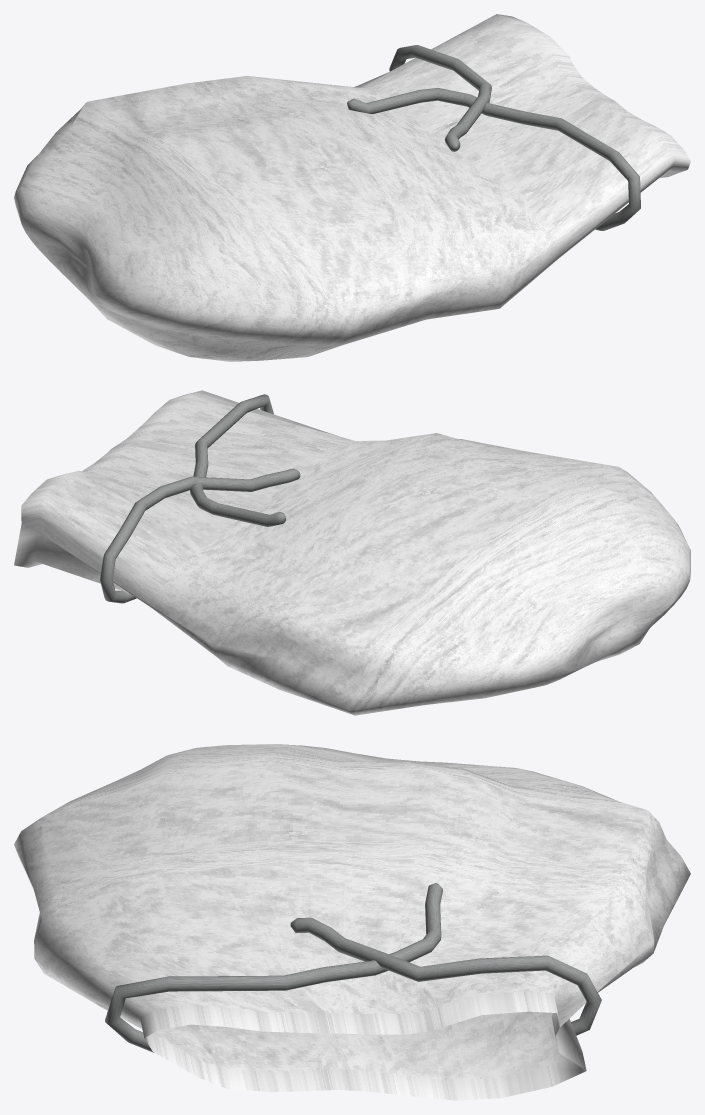
The model's file is bag.glb.
3 renders of one model, top to bottom at view 1: azimuth 30°, elevation 25°; view 2: azimuth 150°, elevation 25°; view 3: azimuth 270°, elevation 25°, orthographic. The views are drawn at different scales.
Parts seen in each view (by area): view 1: bag, string; view 2: bag, string; view 3: bag, string.
Part boxes in pixels (x1,y1,x2,y2): bag: (14, 14, 690, 361); string: (347, 45, 640, 230); bag: (14, 390, 690, 715); string: (100, 394, 300, 603); bag: (14, 744, 690, 1100); string: (105, 883, 601, 1052).
Size of the model in its own units: 0.9786 by 0.2273 by 0.8828.
2 materials, 2 textured.
